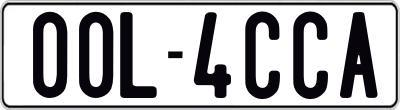0: (32, 10, 69, 98), (79, 10, 114, 102)
4: (191, 11, 234, 97)
A: (339, 9, 382, 99)
C: (293, 9, 334, 102), (243, 12, 284, 99)
L: (117, 12, 155, 98)
